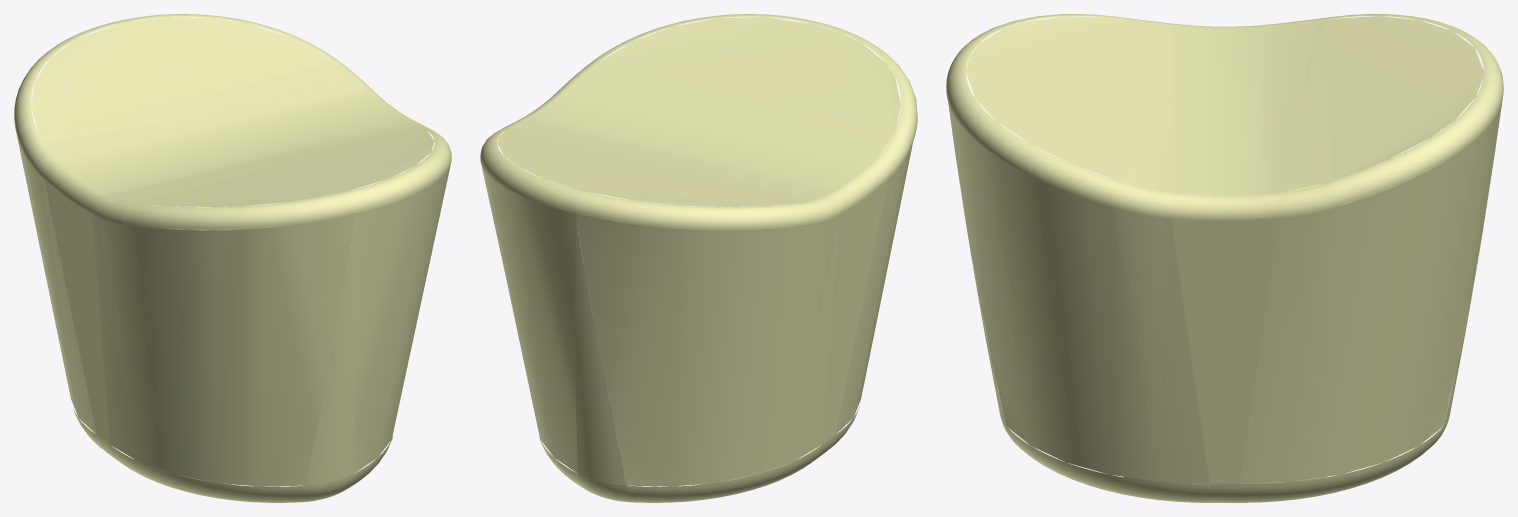
3 views of the same model, side by side, from view 1: azimuth 30°, elevation 25°; view 2: azimuth 150°, elevation 25°; view 3: azimuth 270°, elevation 25° (orthographic). The views are drawn at different scales.
Visible parts, largest first — view 1: b0017970-8c7c-49ff-bb4b-c442da887602; view 2: b0017970-8c7c-49ff-bb4b-c442da887602; view 3: b0017970-8c7c-49ff-bb4b-c442da887602.
Part boxes in pixels (x1,y1,x2,y2): b0017970-8c7c-49ff-bb4b-c442da887602: (14, 14, 451, 502); b0017970-8c7c-49ff-bb4b-c442da887602: (480, 14, 917, 502); b0017970-8c7c-49ff-bb4b-c442da887602: (946, 14, 1503, 502).
Bounding box in the file's own units: 0.4986 × 0.4762 × 0.6438.
Materials: 1 (1 with a texture image).
